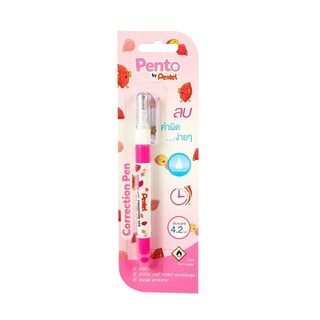Correction_fluid: (130, 90, 159, 270)
